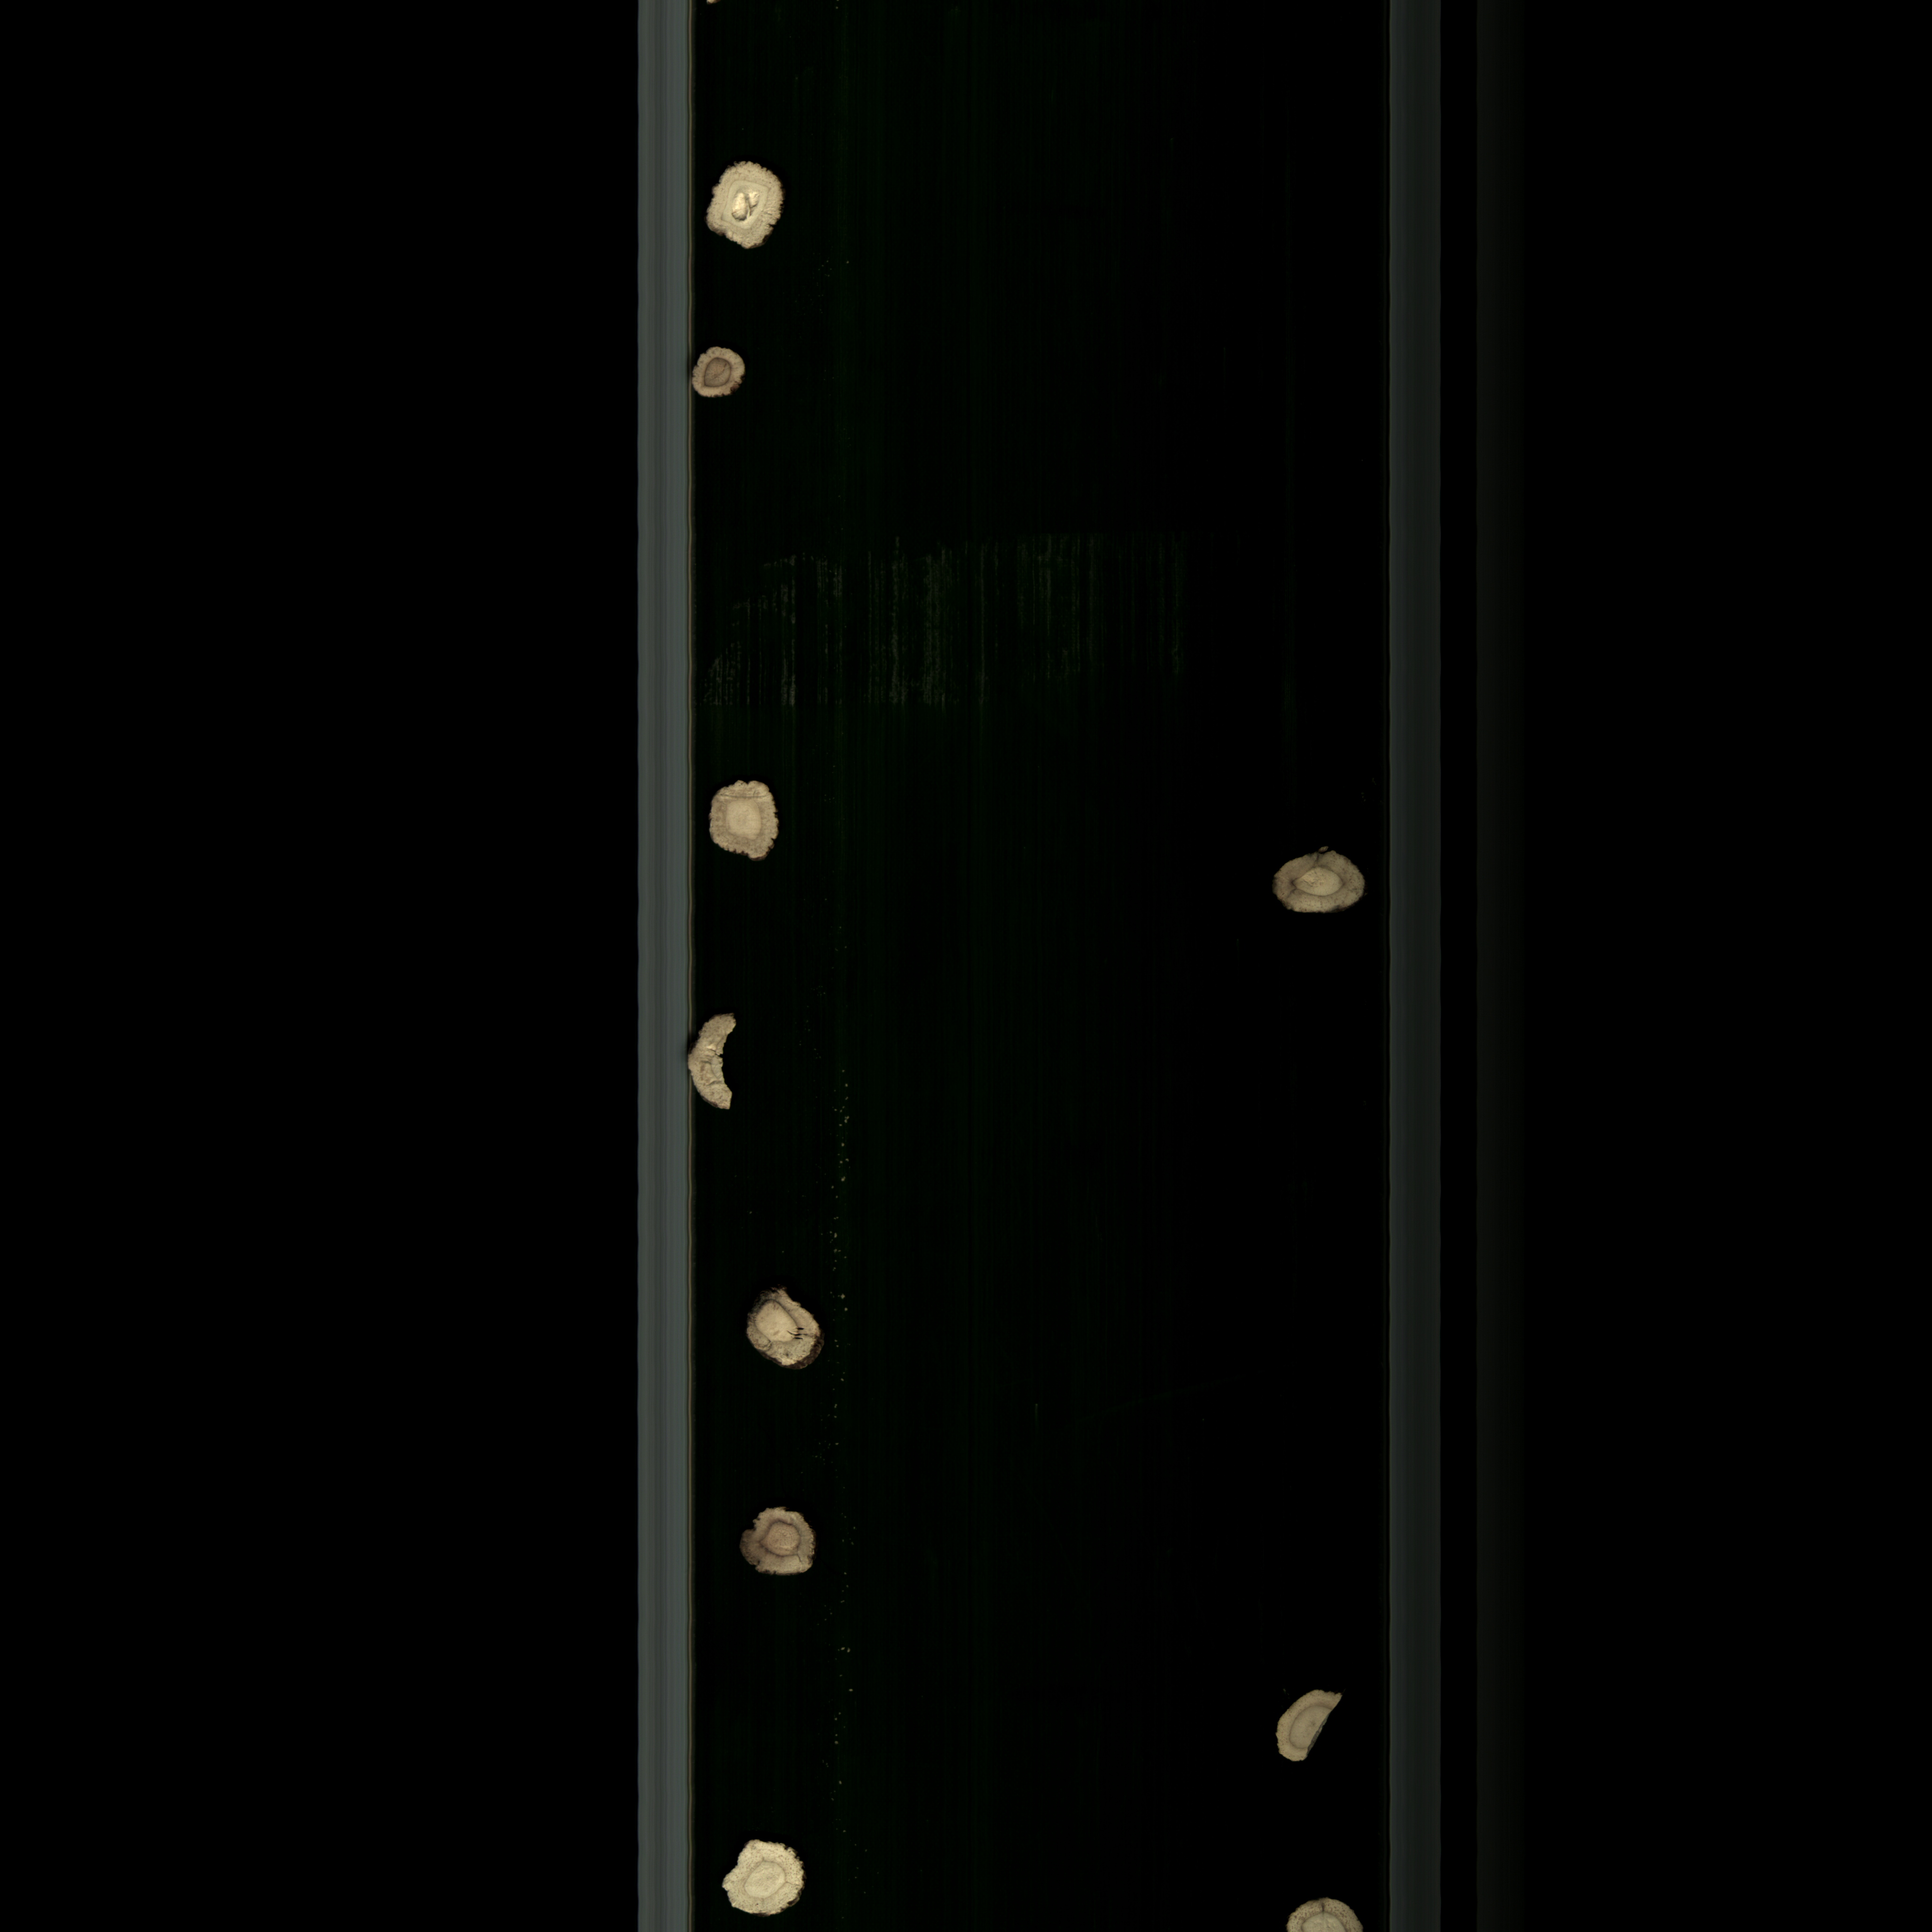debris: (683, 1010, 754, 1122), (1270, 1677, 1346, 1771)
distortion: (702, 150, 800, 267), (706, 773, 787, 878)
moldy: (736, 1284, 830, 1382), (1263, 846, 1376, 925), (724, 1507, 828, 1585), (694, 340, 750, 410)
